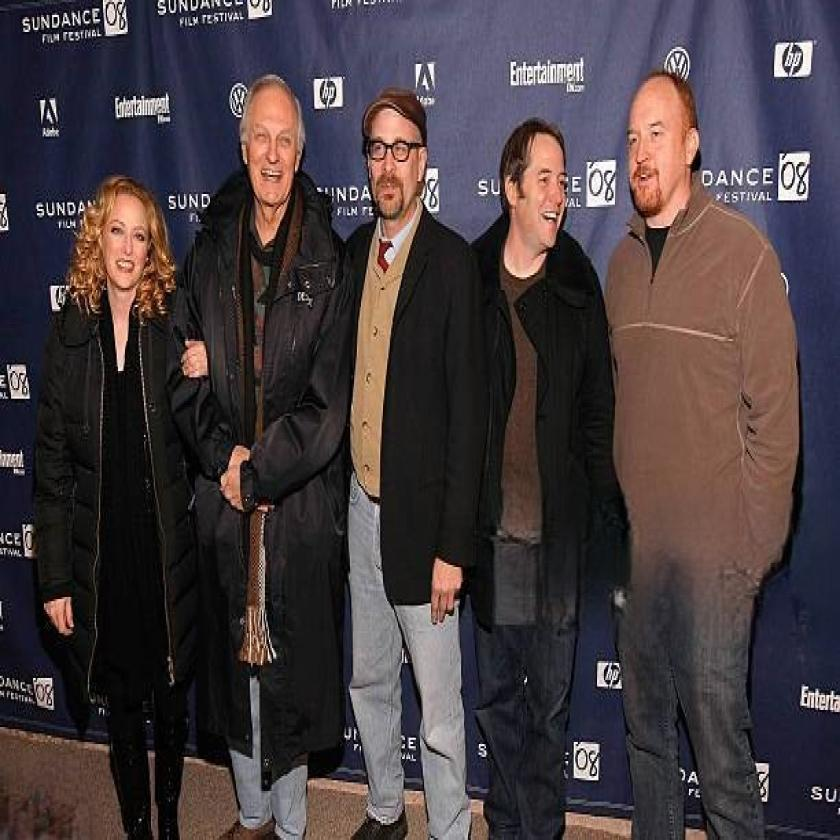Sin_casco: (616, 43, 720, 247), (486, 100, 586, 272), (85, 155, 159, 327), (231, 59, 308, 215)
